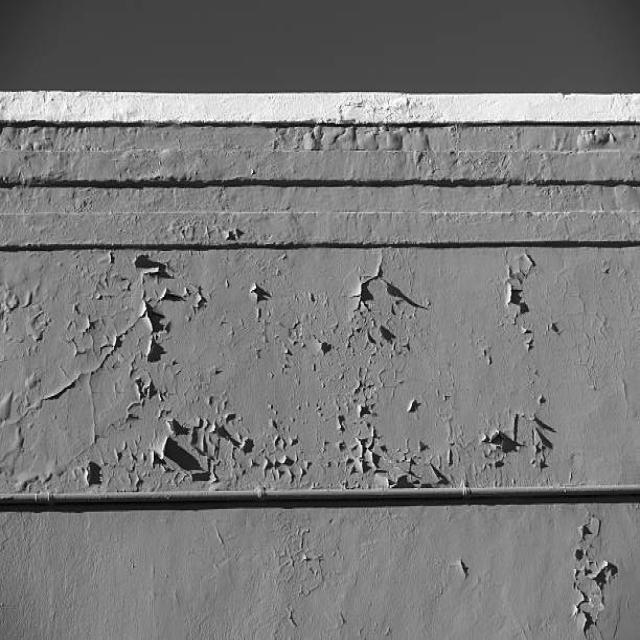peeling paint: (4, 221, 640, 640)
